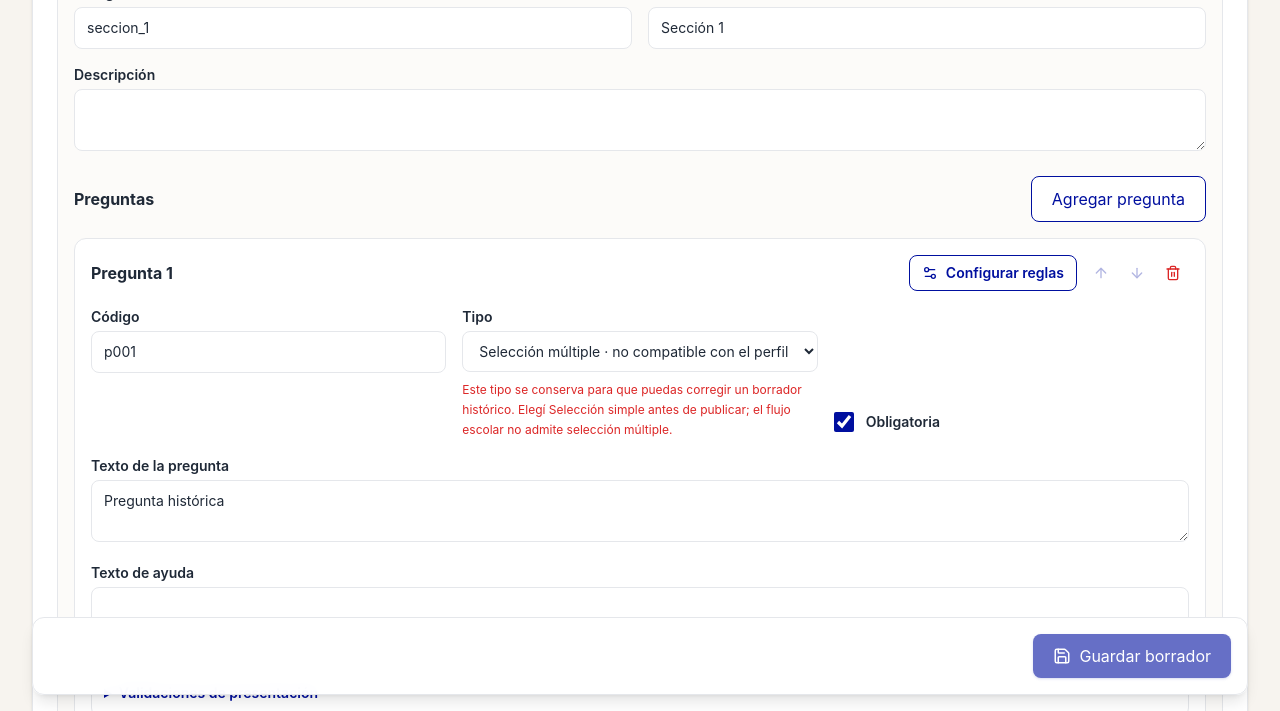
SurveyVersionEditorPage profiles › conserva visible un tipo histórico incompatible hasta que se corrija
(page scrolled)
Expected: the text "Este tipo se conserva para que puedas corregir un borrador histórico" is shown, top-left (462, 382), bottom-right (802, 437)
Select "Selección simple" in the dropdown labelled "Tipo". click: (640, 352)
box: top-left (462, 331), bottom-right (818, 372)
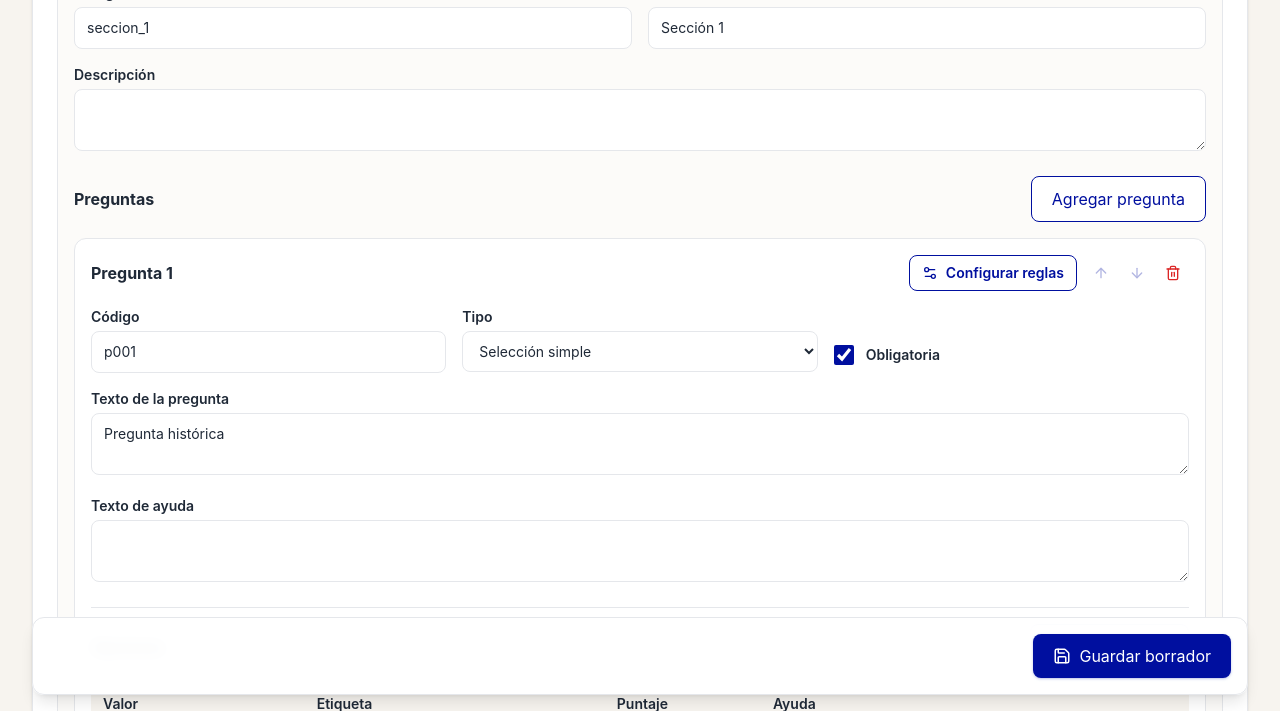
Now the text "Este tipo se conserva para que puedas corregir" is gone
